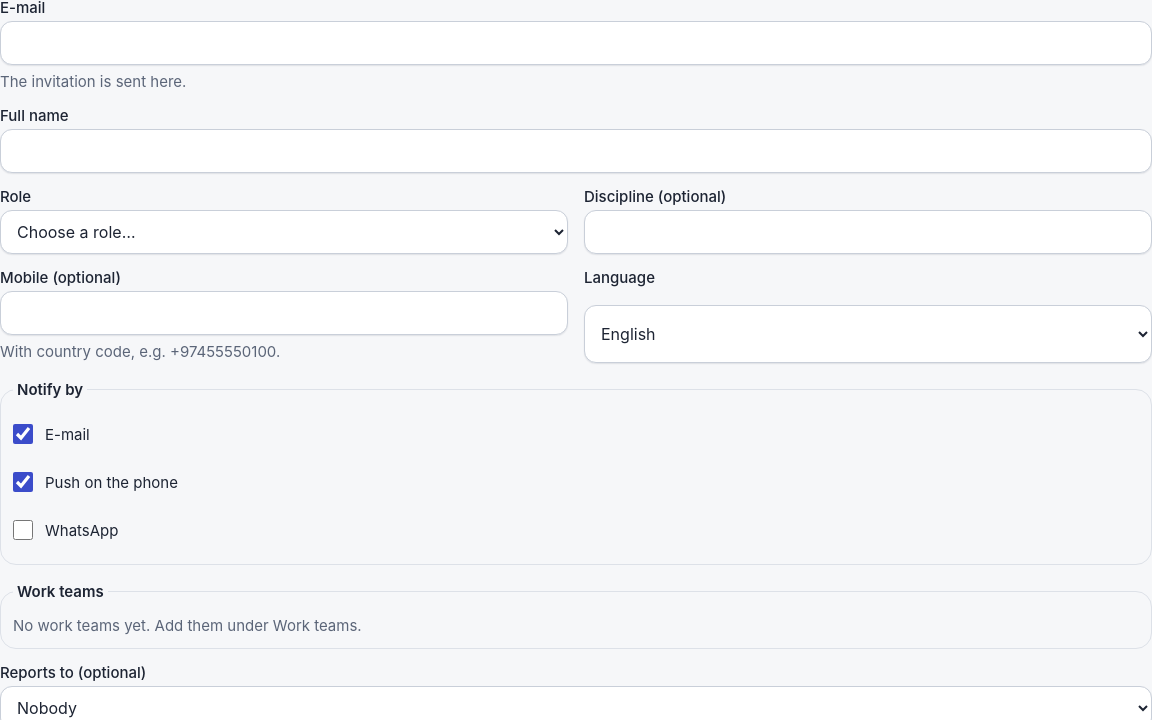
UserForm › requires an e-mail and a role before anything is sent
Type "Sami Ali" into the field labelled "Full name" at (576, 151), box [0,129,1151,173]
(page scrolled)
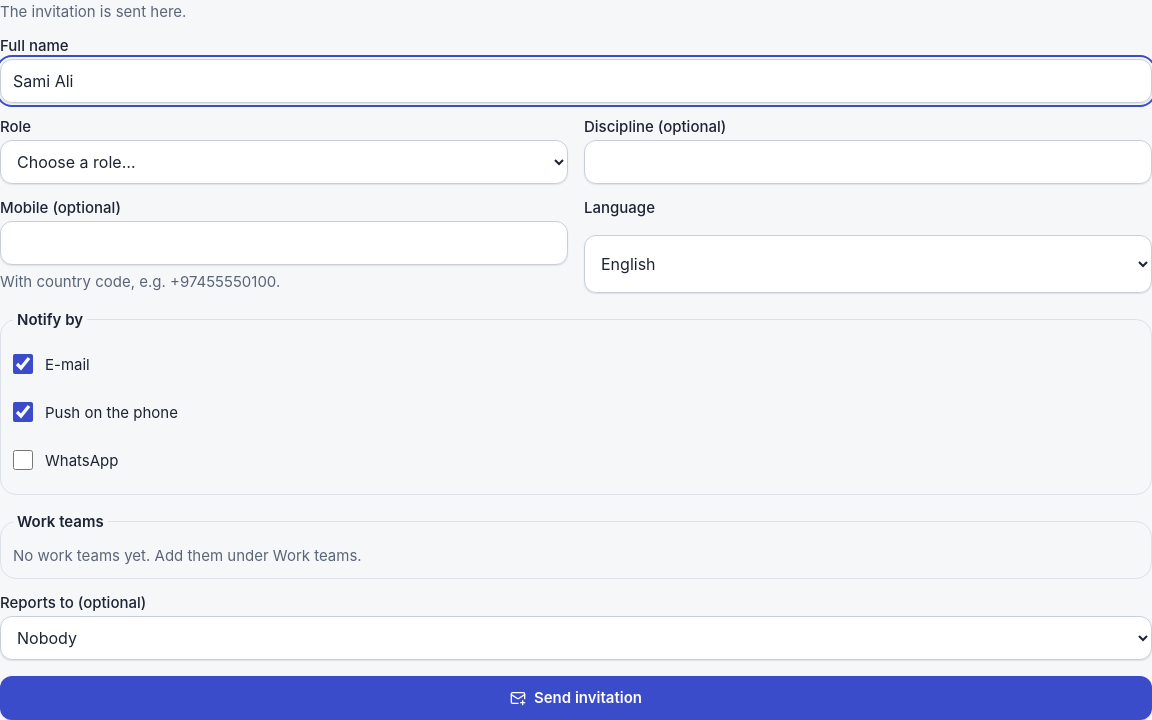
Click the button "Send invitation" at (576, 698), box [0,676,1151,719]
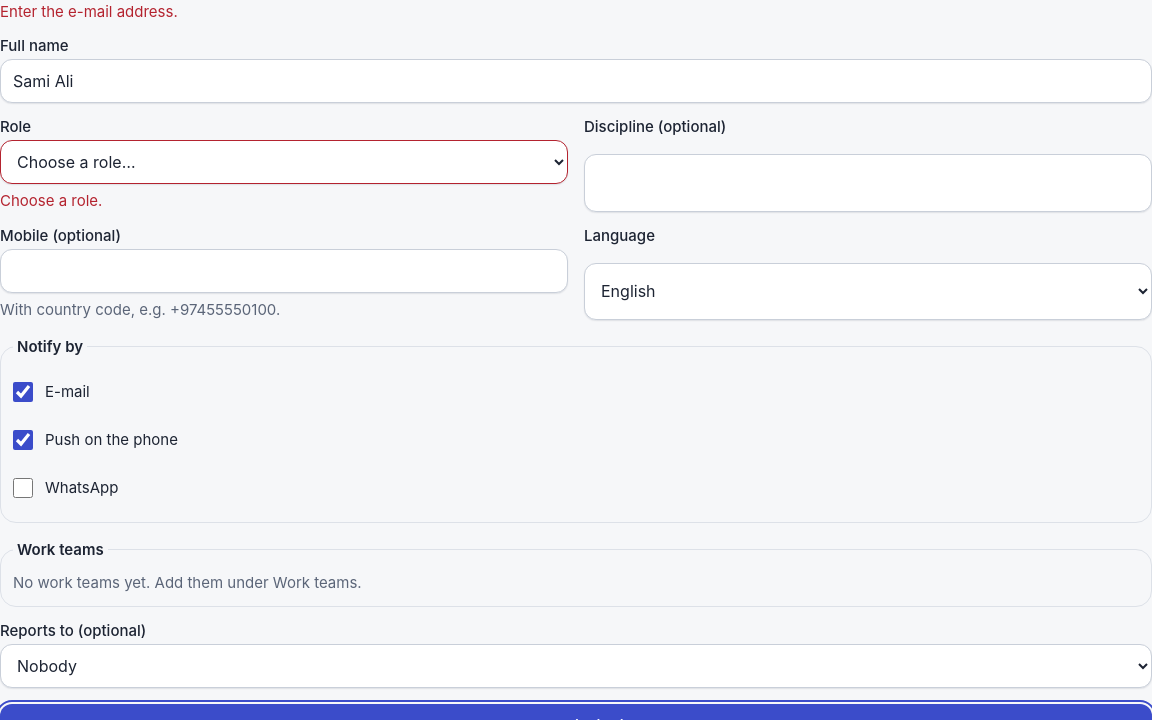
Expected: the text "Enter the e-mail address." is shown, [0,2,178,21]
Expected: the text "Choose a role." is shown, [0,191,102,210]
